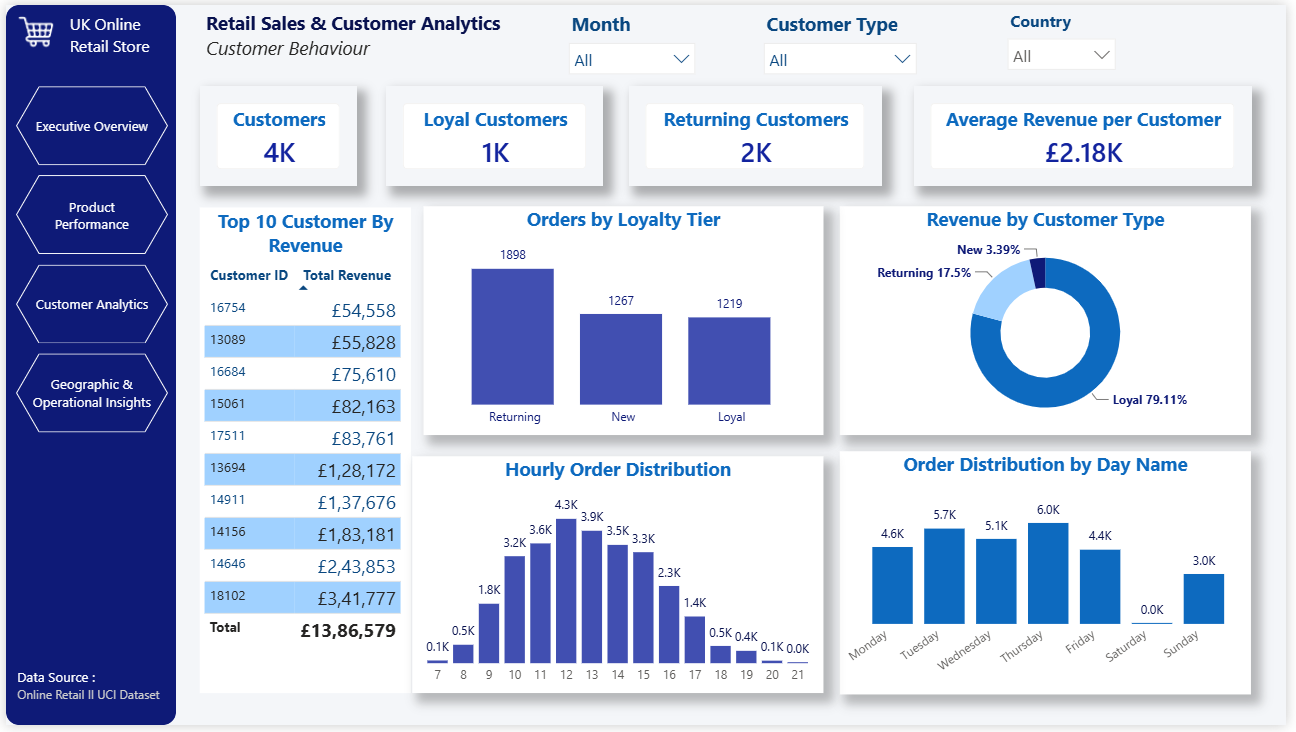

Layout of this report page (visuals, bound fields, positions):
{"tool":"powerbi","page":{"name":"Customer Analytics","canvas":[1280,720],"ordinal":2},"visuals":[{"type":"group","id":"g1","title":"Group 1","box":[8.8,2.5,153.8,357.5],"z":0},{"type":"group","id":"g2","title":"Group 1","box":[0,0,170,720],"z":1000},{"type":"textbox","box":[6.9,656.9,155.1,63.1],"z":2000},{"type":"group","id":"g3","title":"Group 2","box":[194.9,0,924.3,72.9],"z":3000},{"type":"textbox","box":[194.9,0,334.8,60.4],"z":4000,"group":"g3"},{"type":"cardVisual","title":"Product Category","fields":{"Data":["CategoryLookup.Customers"]},"box":[194.3,81.4,157.1,100],"z":4000},{"type":"cardVisual","title":"Product Category","fields":{"Data":["CategoryLookup.Loyal Customers"]},"box":[380,80.8,217.2,100.1],"z":5000},{"type":"shape","box":[0,0,170,720],"z":6000,"group":"g2"},{"type":"cardVisual","title":"Product Category","fields":{"Data":["CategoryLookup.Returning Customers"]},"box":[622.5,80.8,253.4,100.1],"z":6000},{"type":"image","box":[8.8,10,42.5,33.8],"z":7000,"group":"g1"},{"type":"image","box":[8.8,10,42.5,33.8],"z":7000,"group":"g2"},{"type":"cardVisual","title":"Product Category","fields":{"Data":["CategoryLookup.Average Revenue per Customer"]},"box":[907.1,81.4,338.6,100],"z":7000},{"type":"textbox","box":[58.8,2.5,103.8,57.5],"z":8000,"group":"g1"},{"type":"textbox","box":[58.8,2.5,103.8,57.5],"z":8000,"group":"g2"},{"type":"donutChart","title":"Revenue by Customer Type","fields":{"Category":["Customer Summary.Customer Type"],"Y":["CategoryLookup.Total Revenue"]},"box":[834.3,201.4,411.4,228.6],"z":8000},{"type":"pageNavigator","box":[10,81.3,152.5,278.8],"z":8500,"group":"g1"},{"type":"pageNavigator","box":[10,81.4,152.9,348.6],"z":8500,"group":"g2"},{"type":"columnChart","title":"Orders by Loyalty Tier","fields":{"Category":["Customer Summary.Customer Type"],"Y":["CountNonNull(Customer Summary.Orders)"]},"box":[417.1,201.4,400,228.6],"z":9000},{"type":"slicer","fields":{"Values":["Customer Summary.Customer Type"]},"box":[748,1.4,172.9,70],"z":10000,"group":"g3"},{"type":"pivotTable","title":"Top 10 Customer By Revenue","fields":{"Rows":["Customer Summary.Customer ID"],"Values":["CategoryLookup.Total Revenue"]},"box":[194.3,202.9,211.4,485.7],"z":10000},{"type":"slicer","fields":{"Values":["Sales.Country"]},"box":[990.6,0,128.6,72.9],"z":11000,"group":"g3"},{"type":"columnChart","title":"Order Distribution by Day Name","fields":{"Y":["CategoryLookup.Total Orders"],"Category":["Date Table.Day Name"]},"box":[834.3,445.7,411.4,242.9],"z":11000},{"type":"columnChart","title":"Hourly Order Distribution","fields":{"Y":["CategoryLookup.Total Orders"],"Category":["Sales.Hour"]},"box":[405.7,451.4,411.4,237.1],"z":12000},{"type":"slicer","fields":{"Values":["Date Table.Month Name","Date Table.Year"]},"box":[553,1.4,146.8,70],"z":12001}]}

Visuals, with their boxes in screenshot pixels (x1, y1, x2, y2), scaled from the page's 1280x720 canvas onto the 1296x732 screenshot:
"Group 1" group: x1=9 y1=3 x2=165 y2=366
"Group 1" group: x1=0 y1=0 x2=172 y2=731
textbox: x1=7 y1=668 x2=164 y2=731
"Group 2" group: x1=197 y1=0 x2=1133 y2=74
textbox: x1=197 y1=0 x2=536 y2=61
"Product Category" cardVisual: x1=197 y1=83 x2=356 y2=184
"Product Category" cardVisual: x1=385 y1=82 x2=605 y2=184
shape: x1=0 y1=0 x2=172 y2=731
"Product Category" cardVisual: x1=630 y1=82 x2=887 y2=184
image: x1=9 y1=10 x2=52 y2=45
image: x1=9 y1=10 x2=52 y2=45
"Product Category" cardVisual: x1=918 y1=83 x2=1261 y2=184
textbox: x1=60 y1=3 x2=165 y2=61
textbox: x1=60 y1=3 x2=165 y2=61
"Revenue by Customer Type" donutChart: x1=845 y1=205 x2=1261 y2=437
pageNavigator: x1=10 y1=83 x2=165 y2=366
pageNavigator: x1=10 y1=83 x2=165 y2=437
"Orders by Loyalty Tier" columnChart: x1=422 y1=205 x2=827 y2=437
slicer - Customer Summary.Customer Type: x1=757 y1=1 x2=932 y2=73
"Top 10 Customer By Revenue" pivotTable: x1=197 y1=206 x2=411 y2=700
slicer - Sales.Country: x1=1003 y1=0 x2=1133 y2=74
"Order Distribution by Day Name" columnChart: x1=845 y1=453 x2=1261 y2=700
"Hourly Order Distribution" columnChart: x1=411 y1=459 x2=827 y2=700
slicer - Date Table.Month Name x Date Table.Year: x1=560 y1=1 x2=709 y2=73
